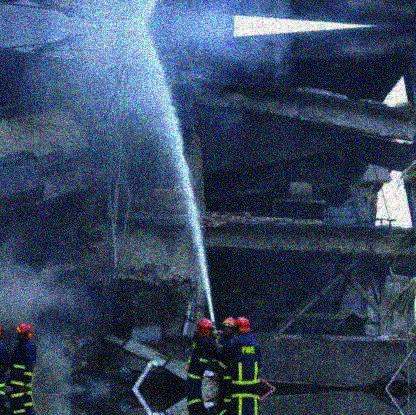helmet: (196, 318, 215, 339), (15, 322, 34, 340), (234, 316, 250, 335), (221, 316, 235, 336)
